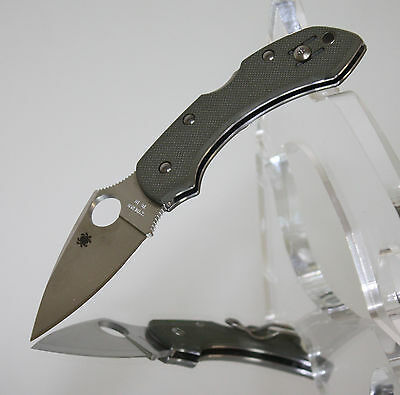knief: (33, 30, 364, 343)
